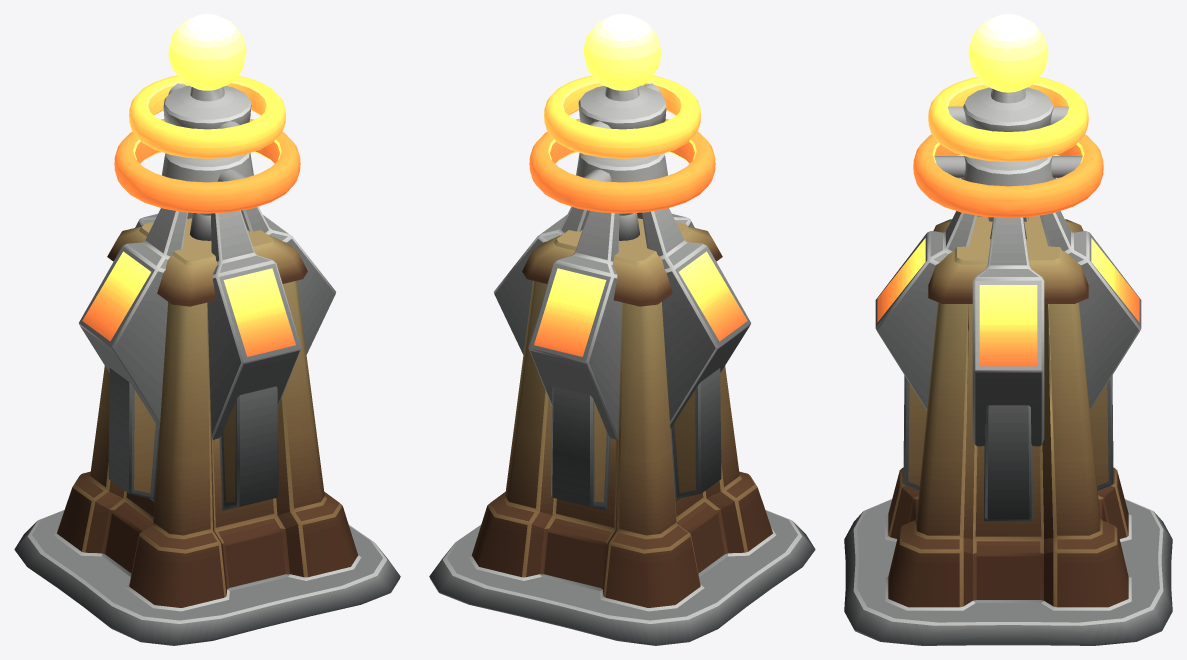
The model's file is Small_TeslaBuilding.fbx.
The picture shows the model from 3 angles, left to right: view 1: azimuth 30°, elevation 25°; view 2: azimuth 150°, elevation 25°; view 3: azimuth 270°, elevation 25°; orthographic projection. The views are drawn at different scales.
Visible parts, largest first — view 1: Small_TeslaBuilding; view 2: Small_TeslaBuilding; view 3: Small_TeslaBuilding.
Boxes of the visible parts, x1,y1,x2,y2 form: Small_TeslaBuilding: (14,14,400,645); Small_TeslaBuilding: (429,14,815,645); Small_TeslaBuilding: (844,14,1172,645).
Bounding box in the file's own units: 329 × 617 × 329.
